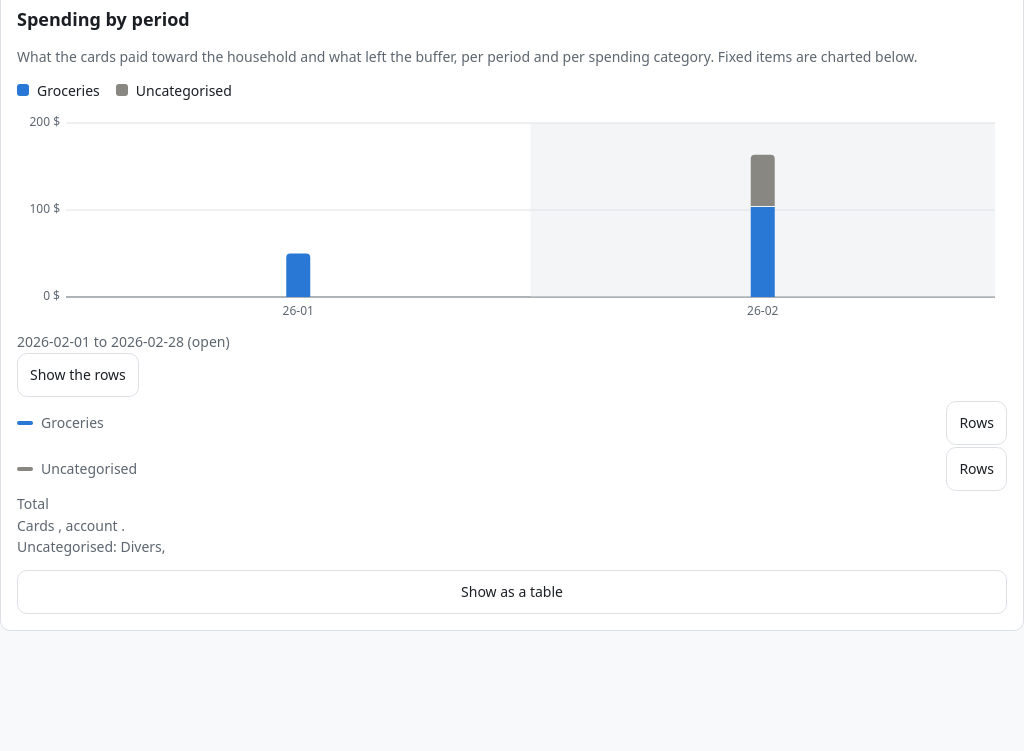
Test: a row given a category of its own is written, and the chart counts it under the new one
Expected: the slider is shown, [17,113,1007,323]
Click the button "Show the rows". click: [78, 375]
box: [17,353,139,397]
(page scrolled)
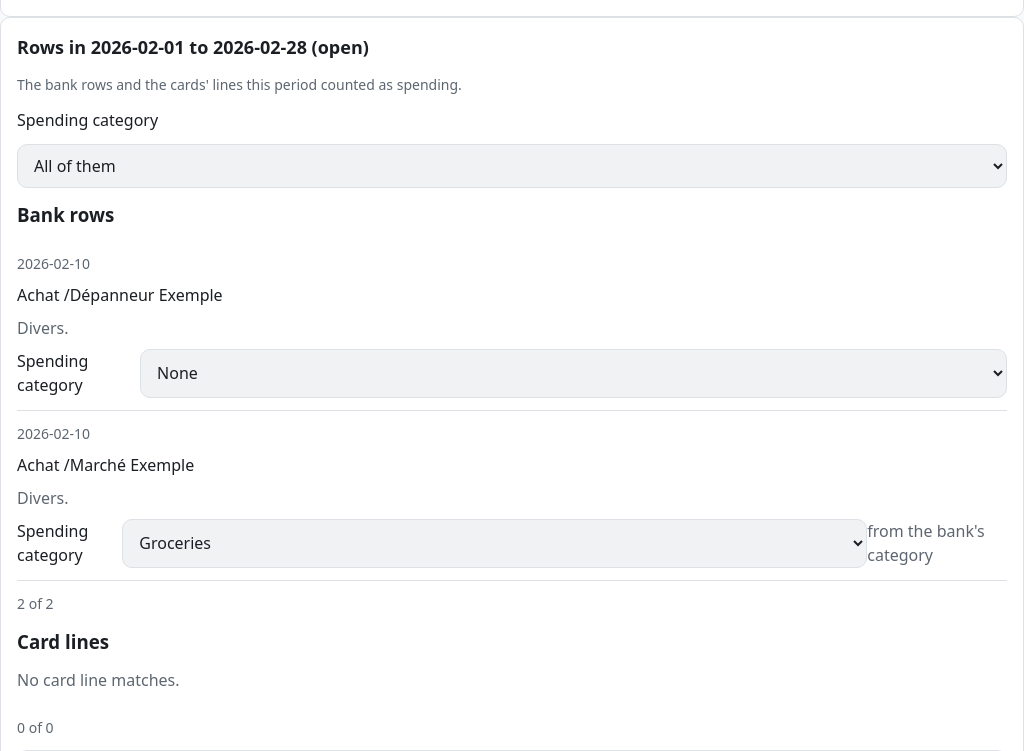
Select "Household" in the dropdown named "Spending category for Achat /Dépanneur Exemple". click: [574, 374]
box: [140,349,1007,398]
(page scrolled)
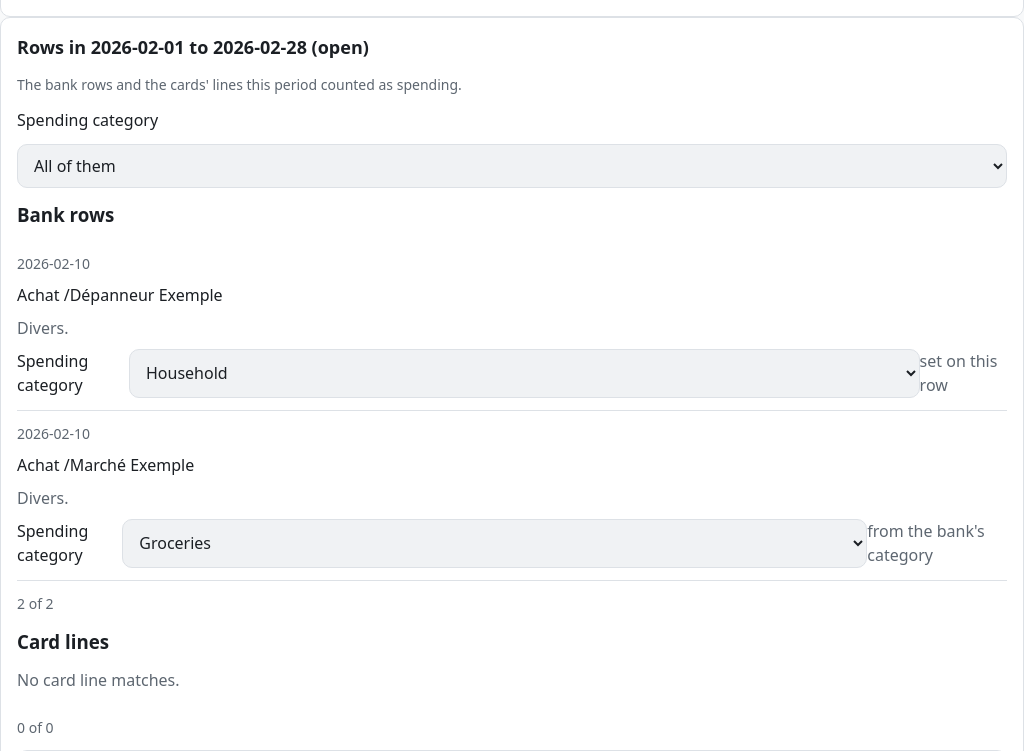
Expected: the text "set on this row" is shown, [920,349,1007,398]
